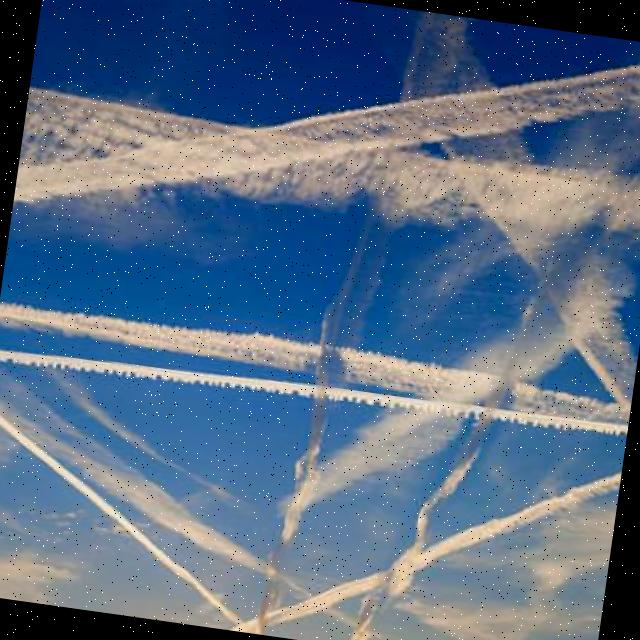Ct: (1, 1, 640, 565)
